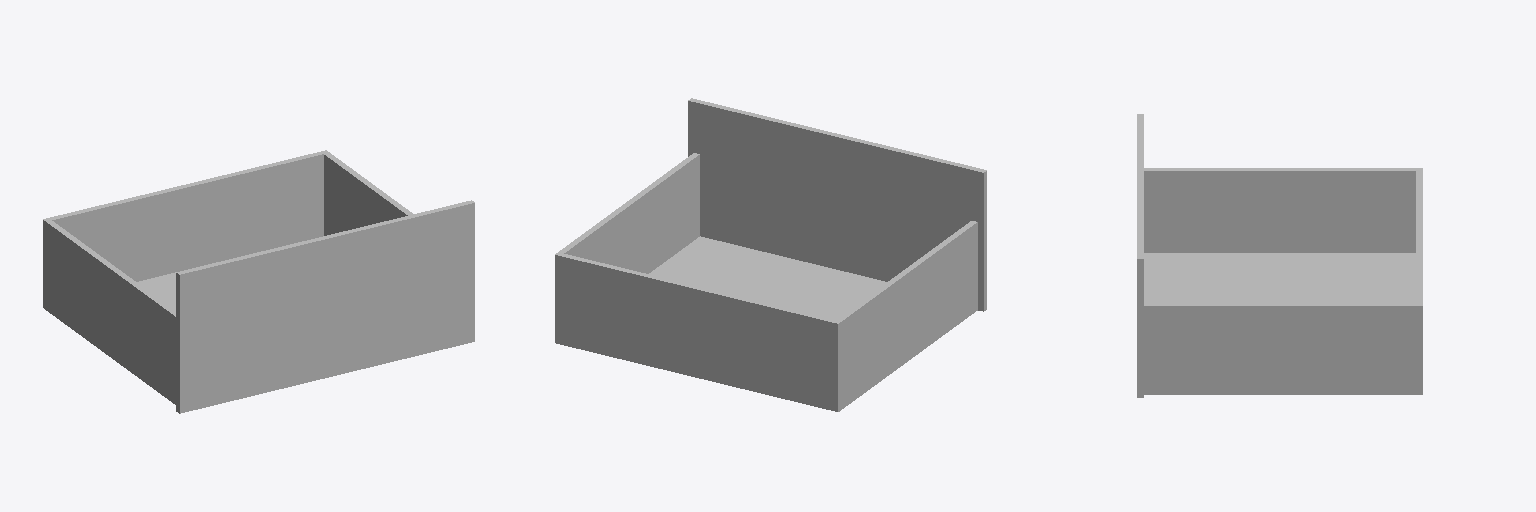
File: KitchenOPEN_Export-26.obj
The picture shows the model from 3 angles: view 1: azimuth 30°, elevation 25°; view 2: azimuth 150°, elevation 25°; view 3: azimuth 270°, elevation 25°; orthographic projection.
Visible parts, largest first — view 1: KitchenOPEN_Export-26; view 2: KitchenOPEN_Export-26; view 3: KitchenOPEN_Export-26.
Boxes of the visible parts, box(x1,y1,x2,y2) form: KitchenOPEN_Export-26: box(43, 150, 474, 413); KitchenOPEN_Export-26: box(555, 98, 986, 411); KitchenOPEN_Export-26: box(1137, 114, 1422, 397).
Bounding box in the file's own units: 49 × 22 × 41.